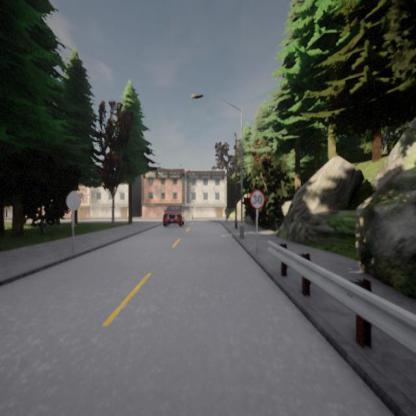traffic_sign_30: (250, 190, 265, 209)
vehicle: (162, 206, 184, 226)
